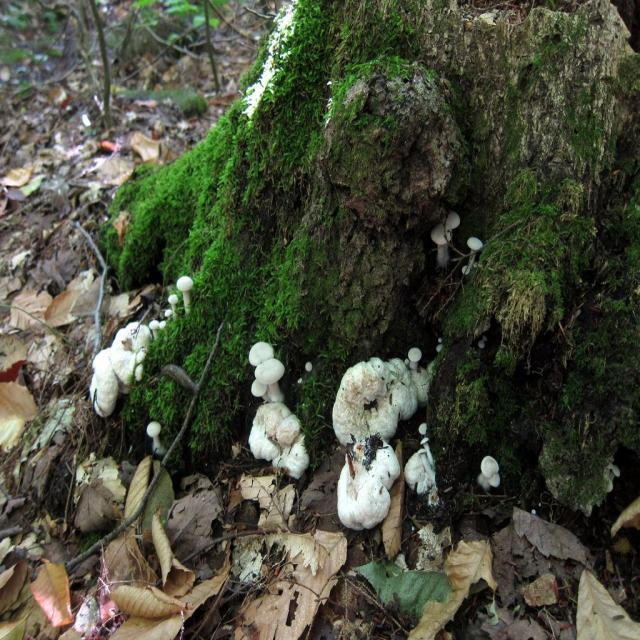Mushroom: (333, 346, 443, 531), (90, 293, 177, 420), (248, 403, 308, 480), (430, 212, 460, 266), (256, 360, 284, 400), (478, 454, 502, 492), (461, 236, 483, 273), (178, 276, 195, 315), (146, 422, 163, 451), (306, 363, 314, 372)
